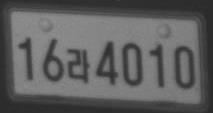0: (121, 42, 143, 85), (174, 44, 195, 89)
1: (147, 43, 170, 89), (16, 37, 38, 80)
4: (95, 40, 119, 86)
6: (42, 38, 64, 81)
라: (66, 48, 90, 82)
